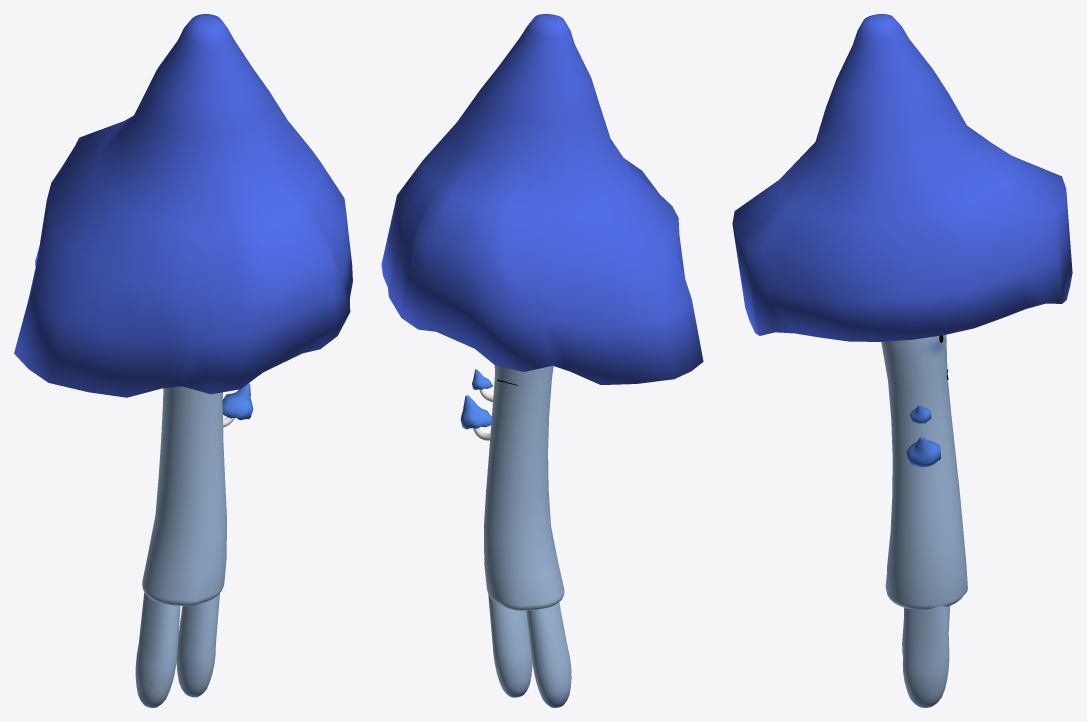
The model's file is RomeoSantos.fbx.
3 renders of one model, left to right at view 1: azimuth 30°, elevation 25°; view 2: azimuth 150°, elevation 25°; view 3: azimuth 270°, elevation 25°, orthographic. The views are drawn at different scales.
Visible parts, largest first — view 1: RomeoSantos; view 2: RomeoSantos; view 3: RomeoSantos.
Boxes of the visible parts, x1,y1,x2,y2 form: RomeoSantos: [14, 14, 352, 707]; RomeoSantos: [381, 14, 703, 707]; RomeoSantos: [732, 14, 1072, 707].
Bounding box in the file's own units: 4.29 × 9.4 × 4.24.
